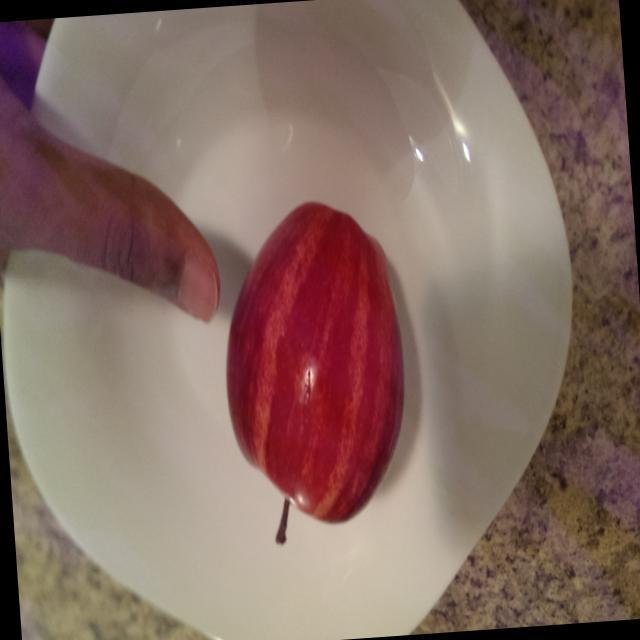Apple: (212, 188, 424, 554)
Finger: (66, 130, 226, 340)
